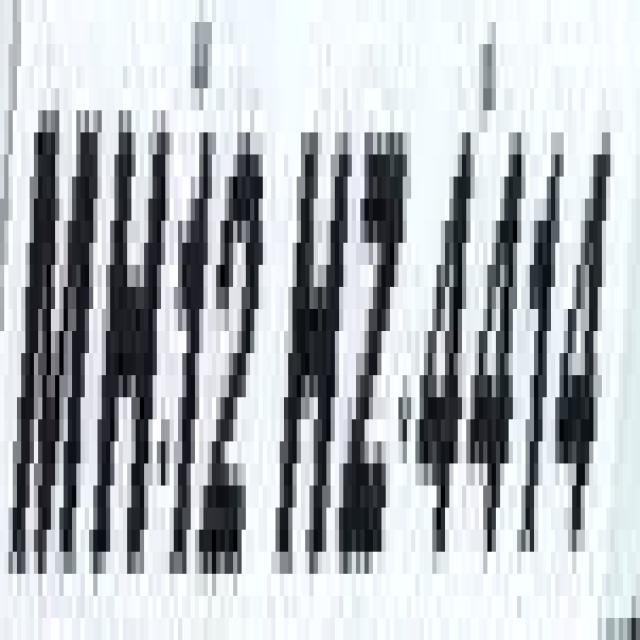license_plate: (38, 44, 636, 618)
